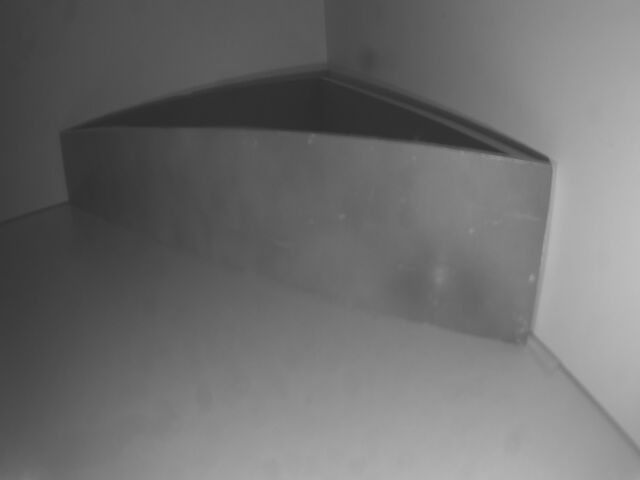Green: (60, 133, 559, 346)
